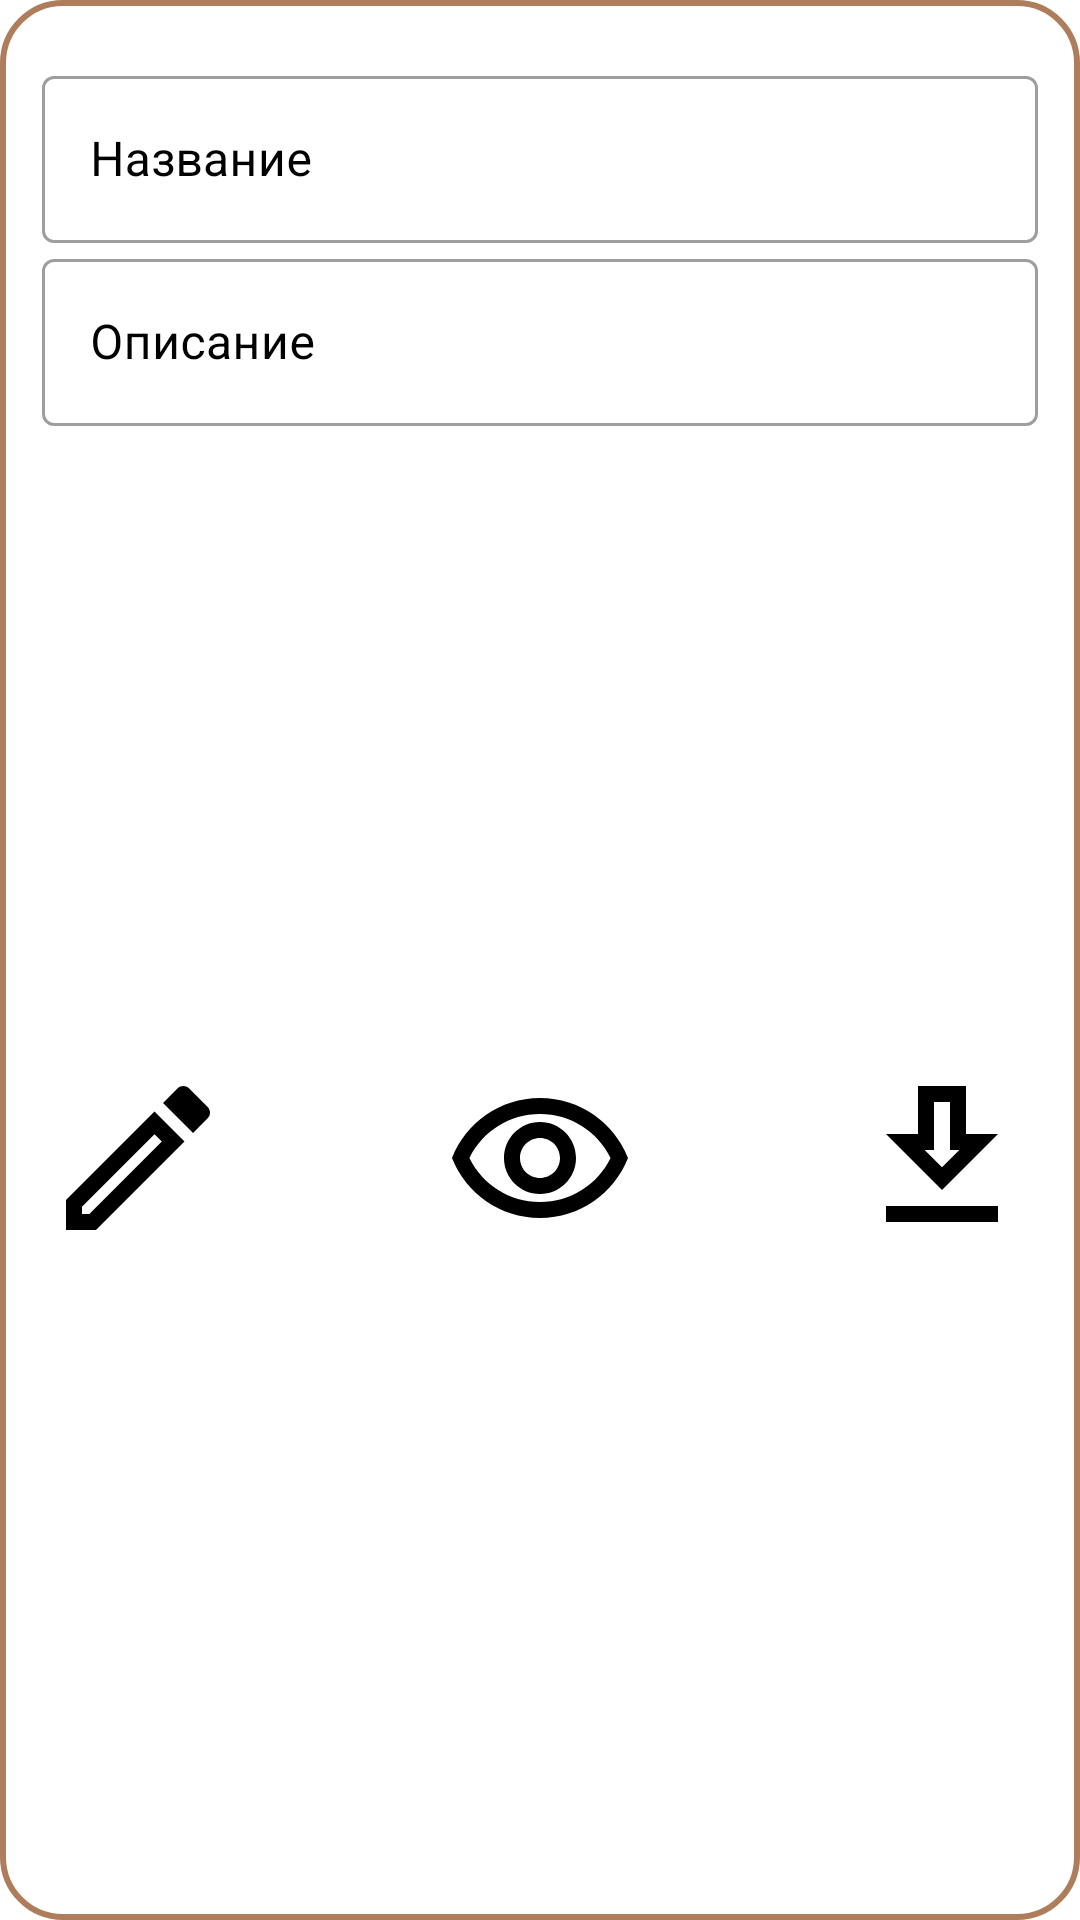

Point at icon controls on the screen. Image size 1080×1920, points as (x=x, y=y).
download: (x=942, y=1154)
edit: (x=138, y=1158)
view: (x=540, y=1158)
